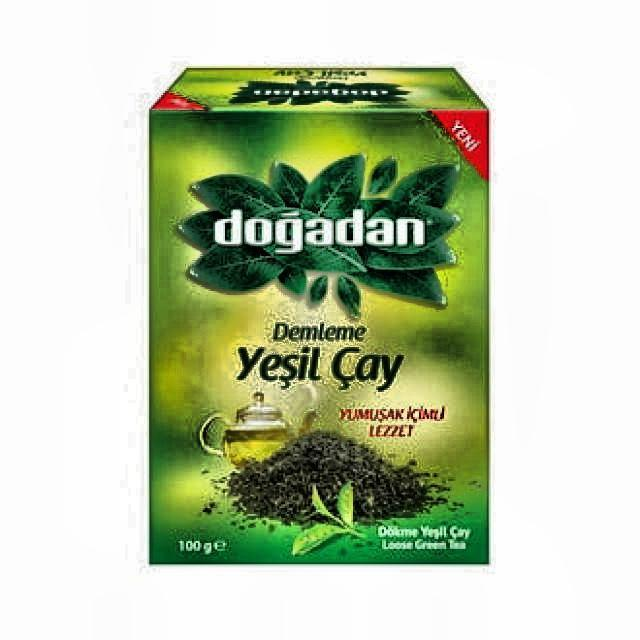cardboard: (146, 66, 493, 571)
